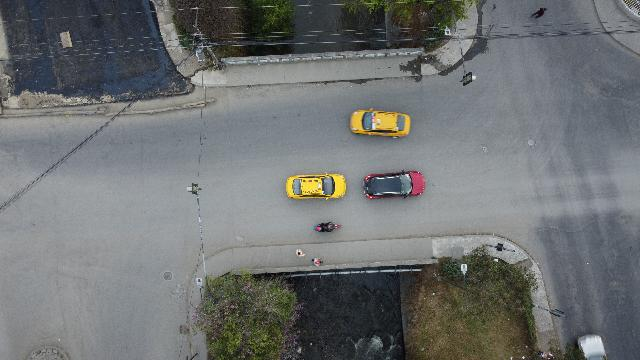Vehiculo: (350, 108, 410, 138), (364, 169, 424, 198), (286, 173, 346, 200)
